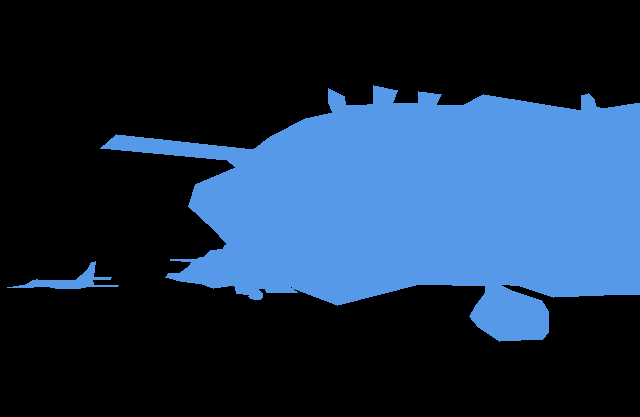Airplane: (100, 85, 640, 341), (165, 244, 298, 299), (7, 261, 119, 288)
